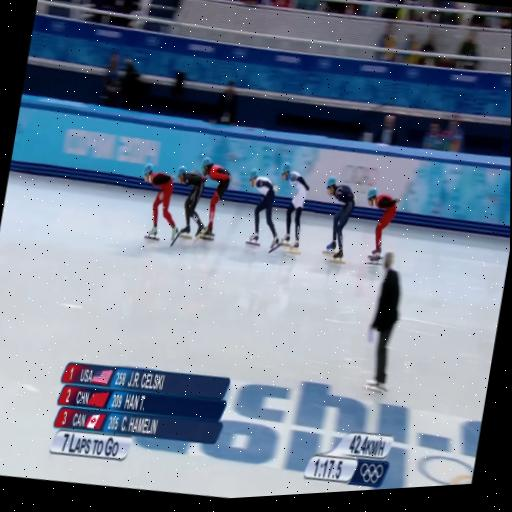Skater: (197, 158, 231, 239), (326, 176, 355, 263), (144, 164, 177, 240), (280, 162, 308, 249), (247, 169, 278, 247), (367, 188, 399, 263), (177, 166, 206, 236)
